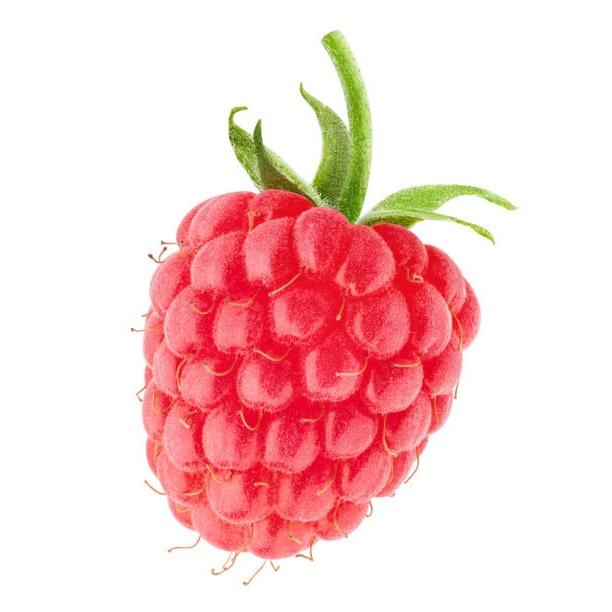pineapple: (131, 29, 518, 584)
raspberry: (137, 187, 313, 367)
